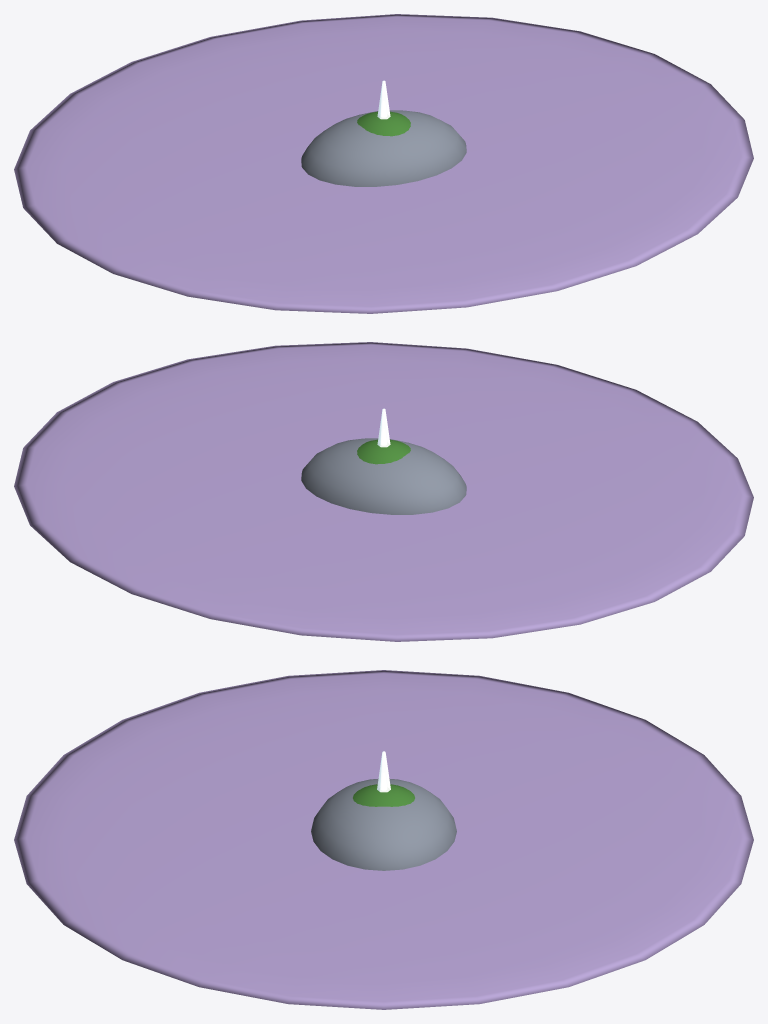
The model's file is starcrafts_env.glb.
3 views of the same model, one above another, from view 1: azimuth 30°, elevation 25°; view 2: azimuth 150°, elevation 25°; view 3: azimuth 270°, elevation 25° (orthographic). The views are drawn at different scales.
Parts seen in each view (by area): view 1: ec_c0, er_r0, et_c0; view 2: ec_c0, er_r0, et_c0; view 3: ec_c0, er_r0, et_c0.
Boxes of the visible parts, <box> form: ec_c0: <box>14,14,753,313</box>; er_r0: <box>301,110,466,186</box>; et_c0: <box>357,111,410,136</box>; ec_c0: <box>14,342,753,641</box>; er_r0: <box>301,438,466,514</box>; et_c0: <box>357,439,410,464</box>; ec_c0: <box>14,670,753,1009</box>; er_r0: <box>311,778,456,870</box>; et_c0: <box>353,784,414,806</box>.
Size of the model in its own units: 6 by 1.45 by 5.52.
